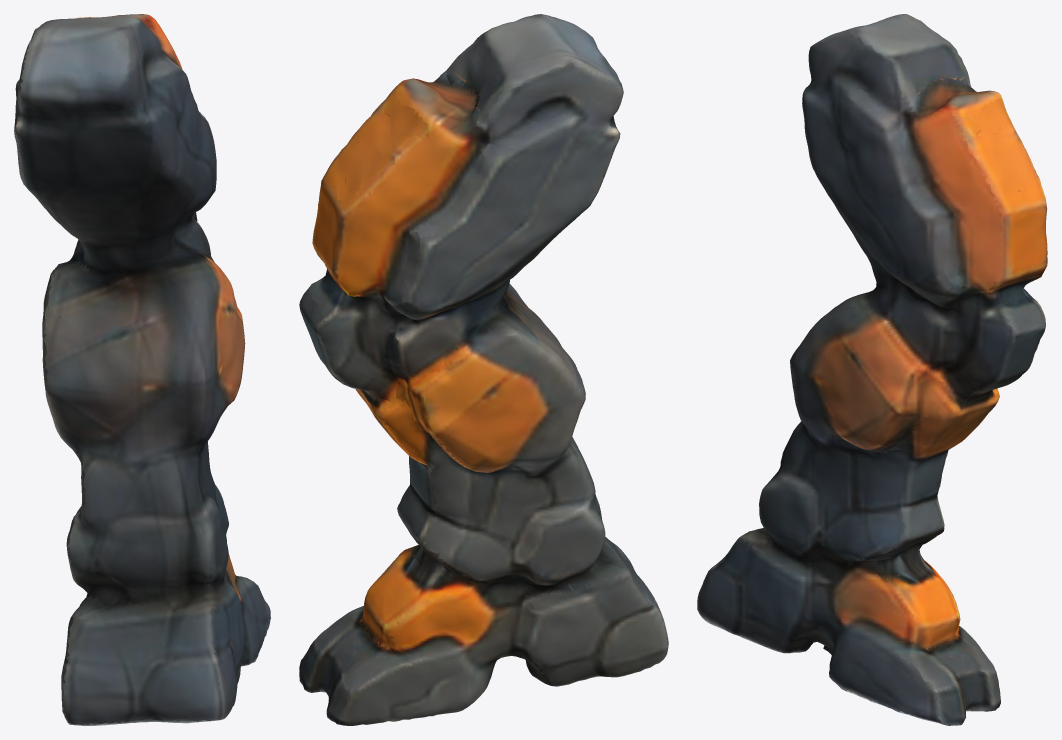
Rendered from R_Leg1.glb.
3 renders of one model, left to right at view 1: azimuth 30°, elevation 25°; view 2: azimuth 150°, elevation 25°; view 3: azimuth 270°, elevation 25°, orthographic. The views are drawn at different scales.
Visible parts, largest first — view 1: world; view 2: world; view 3: world.
Part boxes in pixels (bbox=[...]): world: bbox=[14, 14, 270, 725]; world: bbox=[299, 14, 668, 725]; world: bbox=[697, 14, 1047, 725].
Bounding box in the file's own units: 0.4158 × 0.9465 × 0.4829.
Materials: 1 (1 with a texture image).
